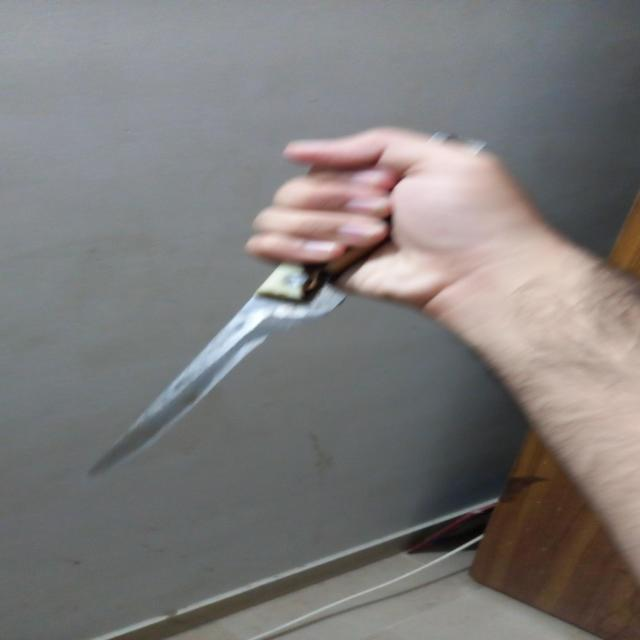faca: (90, 135, 490, 474)
